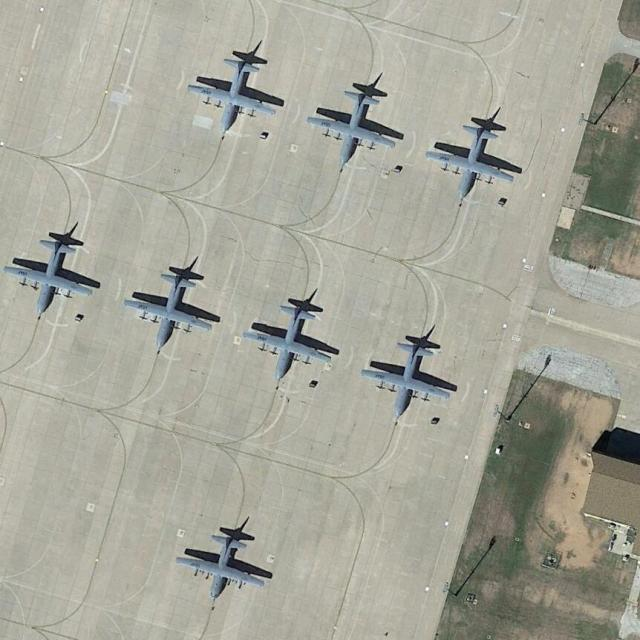fighter jet: (121, 268, 218, 353), (425, 113, 516, 203), (358, 332, 453, 417), (6, 229, 97, 316), (247, 301, 337, 385), (179, 521, 268, 602), (190, 53, 279, 130), (312, 87, 395, 165)
